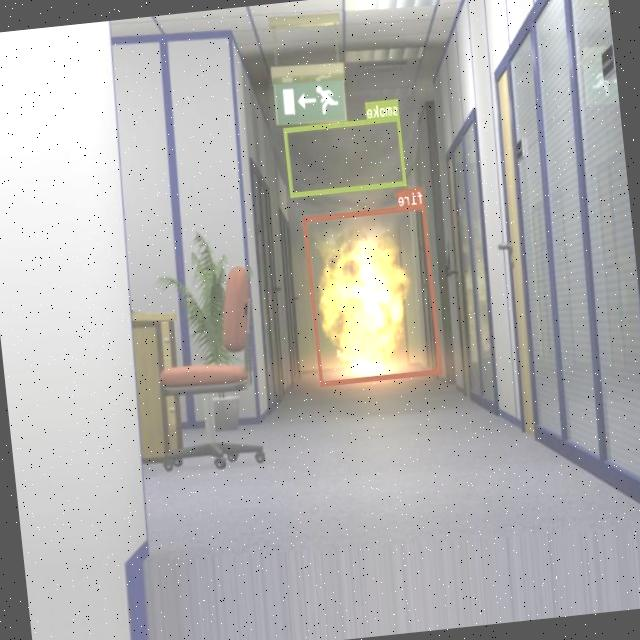fire: (303, 204, 442, 386)
smoke: (284, 114, 408, 196)
